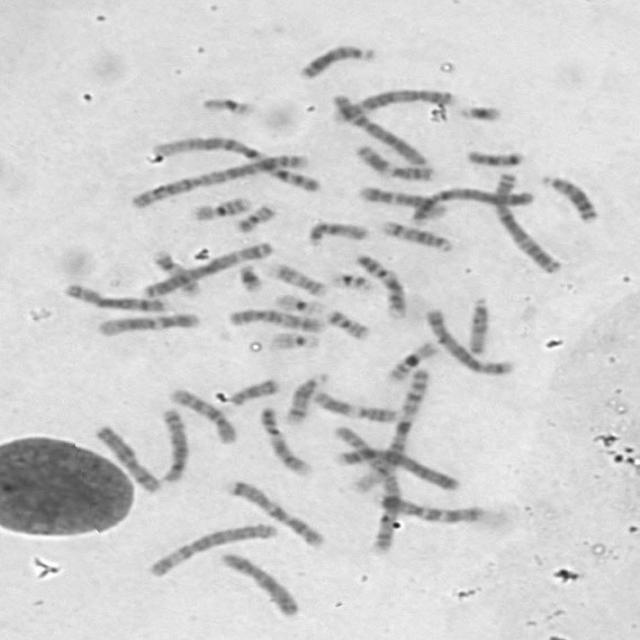A1: (346, 364, 432, 496), (144, 131, 324, 194)
A2: (124, 148, 314, 210), (329, 422, 402, 556)
A3: (136, 237, 276, 299), (487, 168, 566, 275)
B4: (331, 440, 462, 492), (404, 183, 536, 225)
B5: (420, 304, 516, 376), (327, 85, 458, 124)
C10: (164, 383, 241, 446), (223, 304, 328, 334)
C11: (350, 140, 437, 182), (307, 386, 402, 424)
C12: (353, 182, 449, 220), (92, 308, 202, 338)
C6: (143, 519, 279, 580), (326, 90, 431, 167)
C7: (222, 475, 328, 548), (375, 491, 487, 525)
C8: (58, 279, 171, 313), (155, 404, 191, 484)
C9: (255, 403, 315, 477), (350, 248, 408, 320)
D13: (535, 170, 602, 224), (294, 40, 376, 80)
D14: (376, 215, 456, 252), (281, 368, 332, 426)
D15: (302, 216, 371, 248), (461, 292, 493, 357)
E16: (382, 336, 441, 382), (187, 190, 253, 222)
E17: (148, 245, 202, 297), (261, 258, 330, 298)
E18: (225, 374, 282, 407), (460, 145, 528, 168)
F19: (195, 91, 258, 118), (269, 289, 327, 316)
F20: (321, 304, 374, 340), (231, 199, 279, 234)
G21: (456, 100, 505, 123), (233, 259, 266, 293)
G22: (265, 327, 323, 351), (325, 268, 376, 292)
X: (215, 548, 302, 618), (89, 420, 164, 494)
